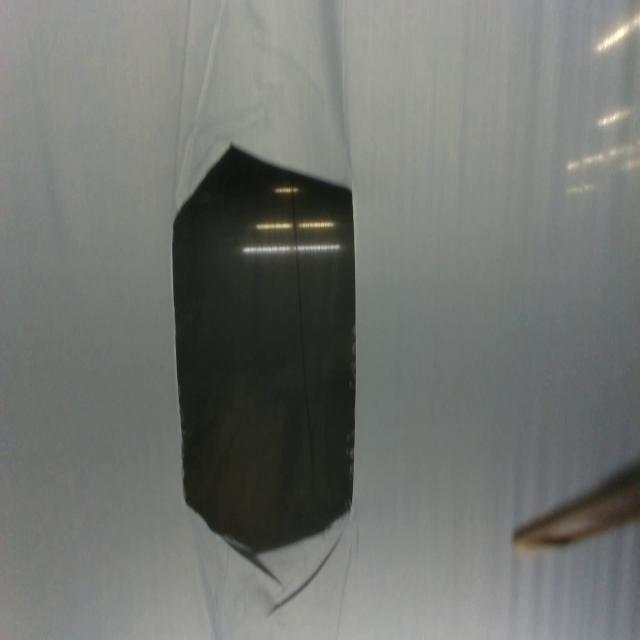crease: (266, 533, 344, 618)
hole: (170, 142, 358, 555)
